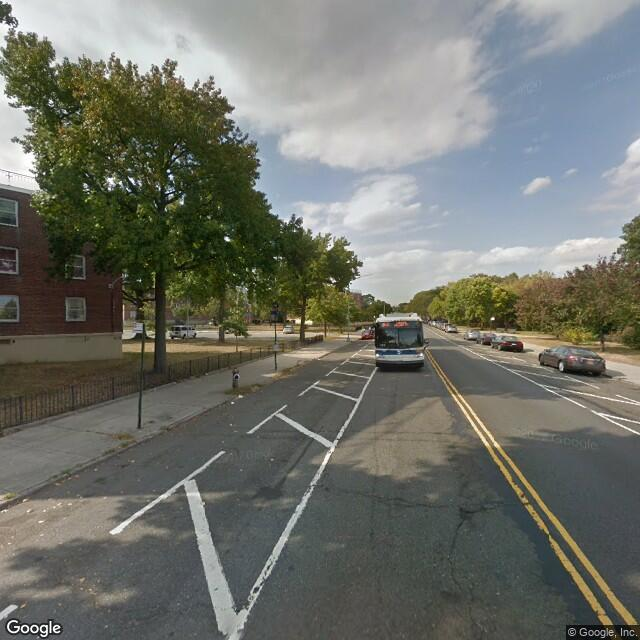litter: (266, 456, 275, 465), (230, 401, 241, 407), (317, 358, 324, 367), (226, 420, 234, 427), (235, 395, 245, 399)
